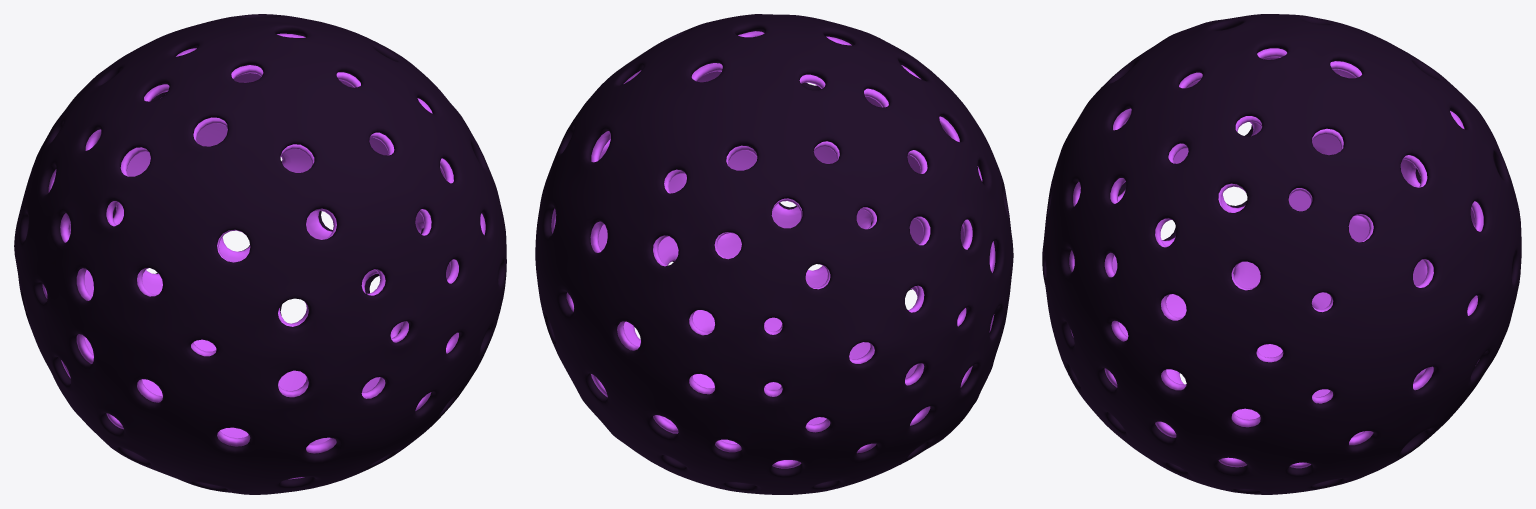
The model's file is nuclear_membrane_closed.fbx.
3 renders of one model, left to right at view 1: azimuth 30°, elevation 25°; view 2: azimuth 150°, elevation 25°; view 3: azimuth 270°, elevation 25°, orthographic.
Parts seen in each view (by area): view 1: Nuclear_Envelope_Outer, Nuclear_Envelope_Inner; view 2: Nuclear_Envelope_Outer, Nuclear_Envelope_Inner; view 3: Nuclear_Envelope_Outer, Nuclear_Envelope_Inner.
Boxes of the visible parts, <box> form: Nuclear_Envelope_Outer: <box>14,14,506,494</box>; Nuclear_Envelope_Inner: <box>42,33,485,479</box>; Nuclear_Envelope_Outer: <box>535,14,1013,494</box>; Nuclear_Envelope_Inner: <box>551,31,995,468</box>; Nuclear_Envelope_Outer: <box>1042,14,1521,494</box>; Nuclear_Envelope_Inner: <box>1069,48,1483,468</box>.
Bounding box in the file's own units: 1086 × 1097 × 1090.
